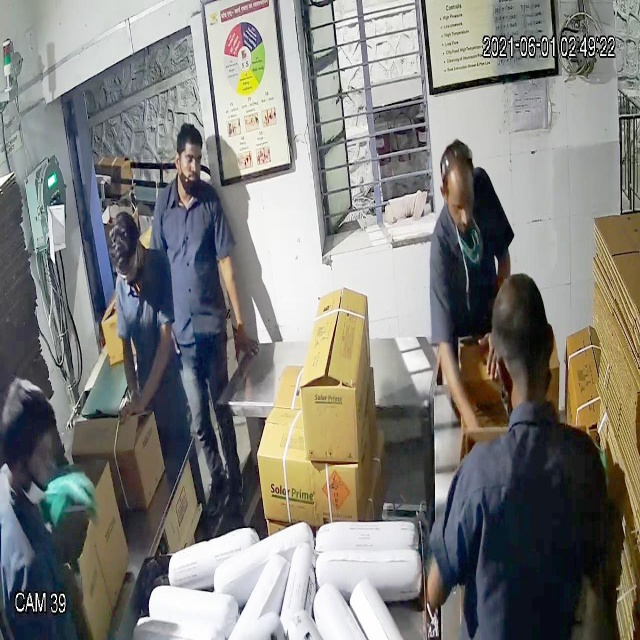Gafas: (110, 250, 146, 287)
Sin_gafas: (436, 180, 477, 220), (169, 142, 211, 176)
